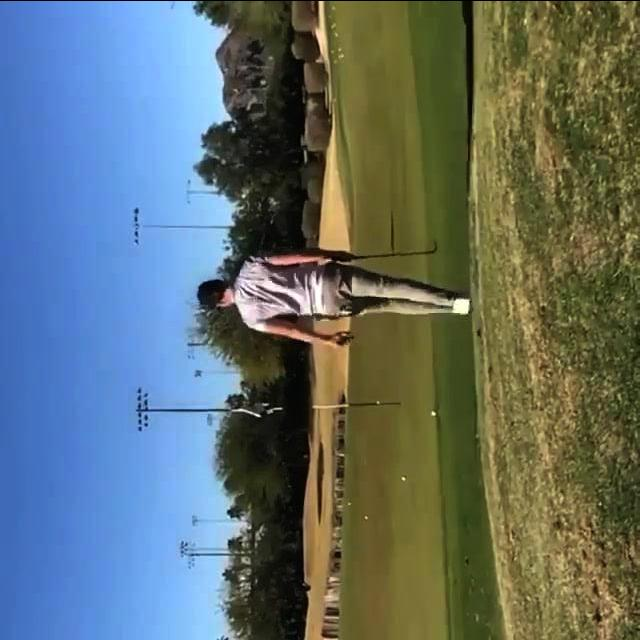golf ball: (430, 409, 436, 416)
golf club-handle: (323, 239, 438, 261)
golf club-head: (434, 239, 439, 251)
